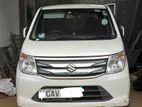car: (11, 3, 133, 107)
